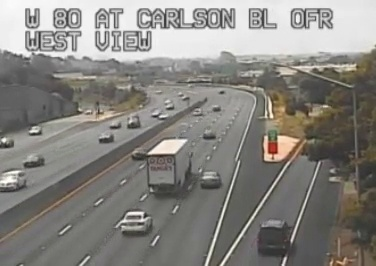car: (257, 219, 289, 252), (121, 210, 152, 232), (200, 171, 220, 188), (131, 148, 146, 160)
truck: (146, 138, 191, 197)
